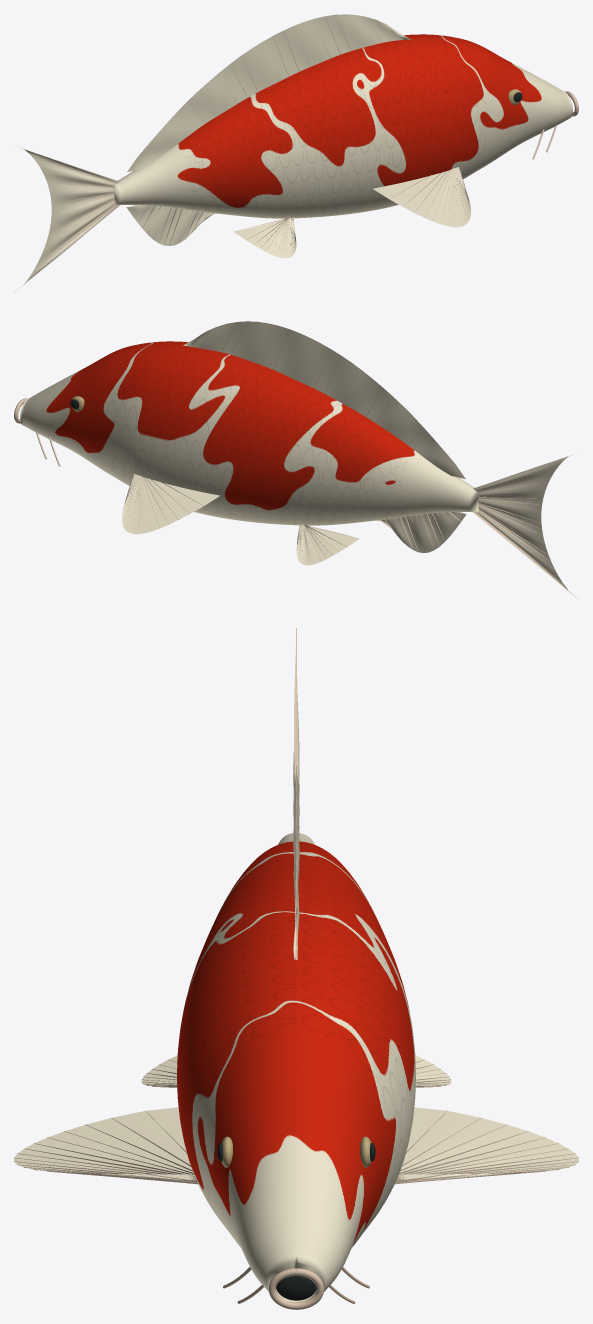
File: koi.glb
The picture shows the model from 3 angles, top to bottom: view 1: azimuth 30°, elevation 25°; view 2: azimuth 150°, elevation 25°; view 3: azimuth 270°, elevation 25°; orthographic projection. The views are drawn at different scales.
Parts seen in each view (by area): view 1: body, dorsal, caudal, pectoral_1, anal, pelvic_1, caudal_rays; view 2: body, dorsal, caudal, pectoral_-1, anal, pelvic_-1, caudal_rays; view 3: body, pectoral_-1, pectoral_1, pectoral_1_rays, pectoral_-1_rays, mouth, dorsal.
Boxes of the visible parts, x1,y1,x2,y2 form: body: [114, 34, 572, 218]; dorsal: [127, 14, 410, 171]; caudal: [17, 149, 119, 289]; pectoral_1: [373, 167, 470, 227]; anal: [126, 205, 214, 245]; pelvic_1: [233, 217, 296, 258]; caudal_rays: [14, 150, 119, 292]; body: [20, 341, 478, 525]; dorsal: [183, 321, 465, 478]; caudal: [473, 456, 575, 596]; pectoral_-1: [122, 474, 219, 534]; anal: [379, 512, 466, 552]; pelvic_-1: [296, 524, 359, 565]; caudal_rays: [473, 457, 578, 599]; body: [177, 832, 415, 1302]; pectoral_-1: [397, 1107, 578, 1182]; pectoral_1: [14, 1107, 197, 1182]; pectoral_1_rays: [14, 1111, 198, 1184]; pectoral_-1_rays: [394, 1111, 578, 1184]; mouth: [268, 1268, 324, 1309]; dorsal: [293, 766, 299, 959].
Bounding box in the file's own units: 1.11 × 0.3824 × 0.5393.
5 materials, 1 textured.
